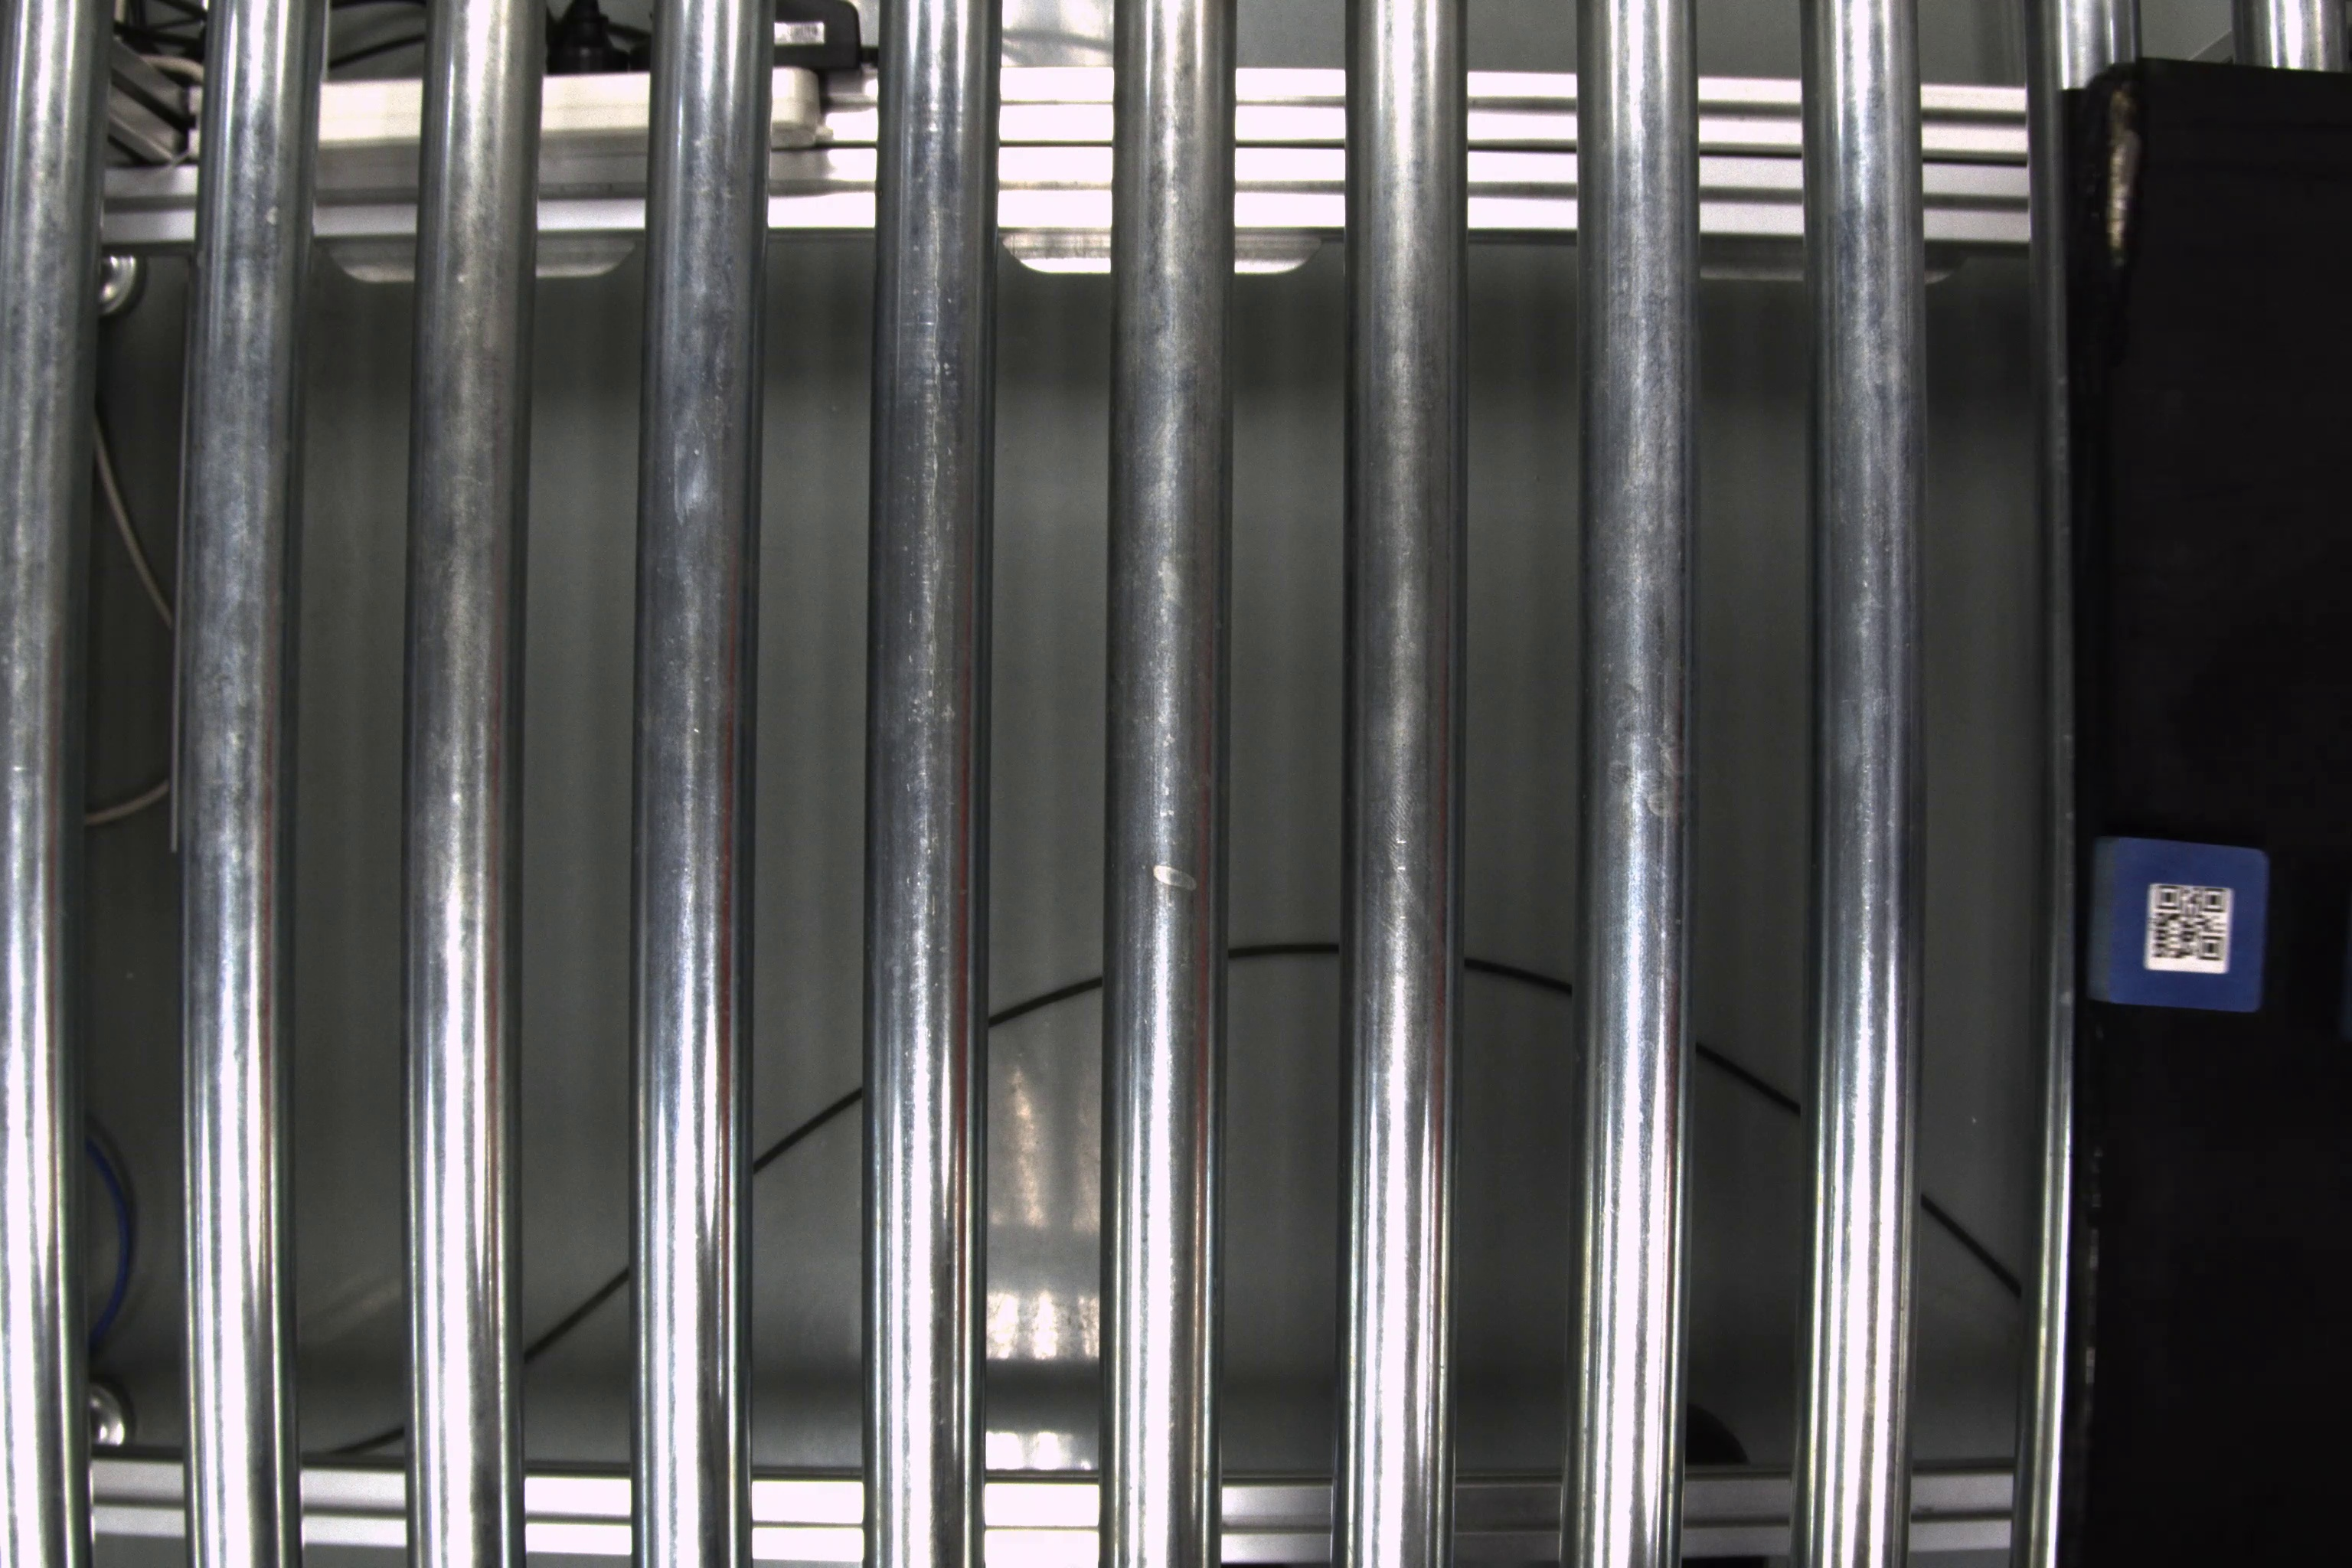wood: (2089, 833, 2270, 1018)
